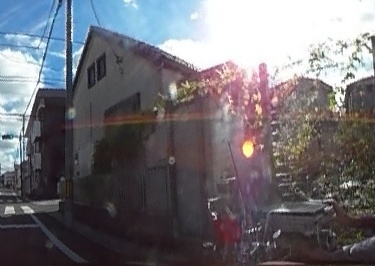person: (302, 51, 375, 263)
